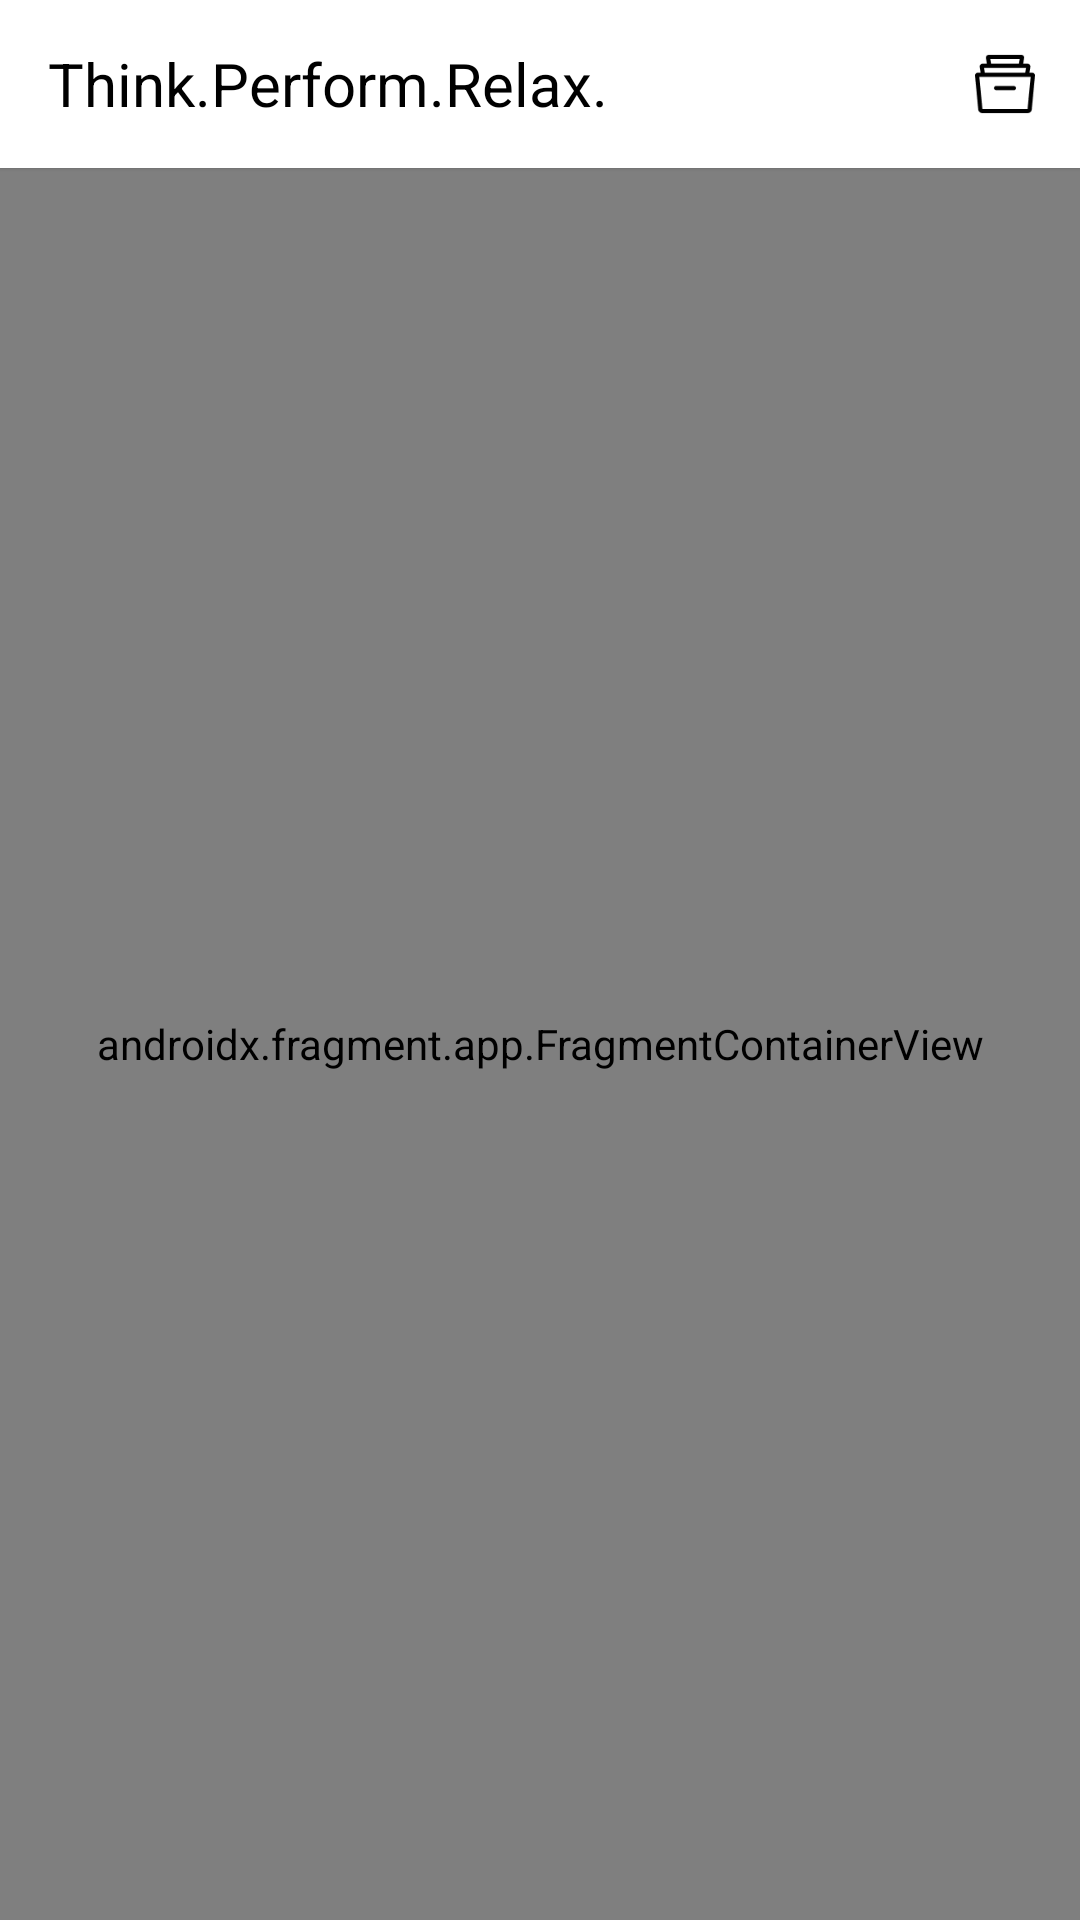

Icon bounding boxes for this 1080 x 1920 phone screenshot, format (x1, y1, x2, y2):
archive: (975, 54, 1035, 114)
